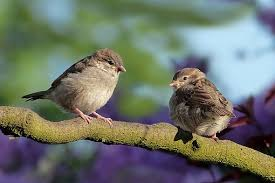hsparrow: (15, 42, 132, 141), (167, 62, 240, 159)
